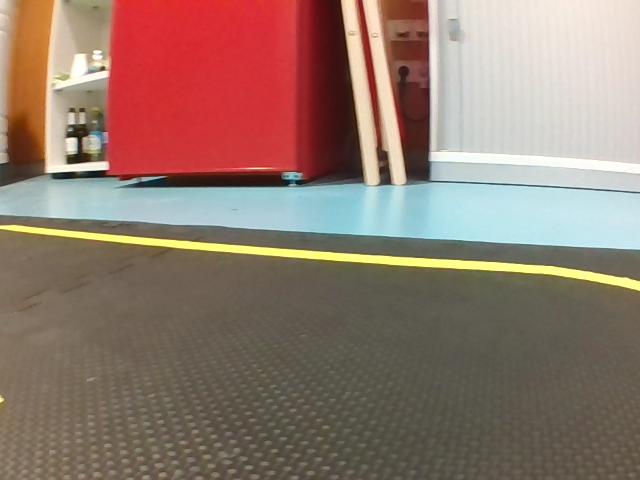no30: (105, 82, 139, 134)
